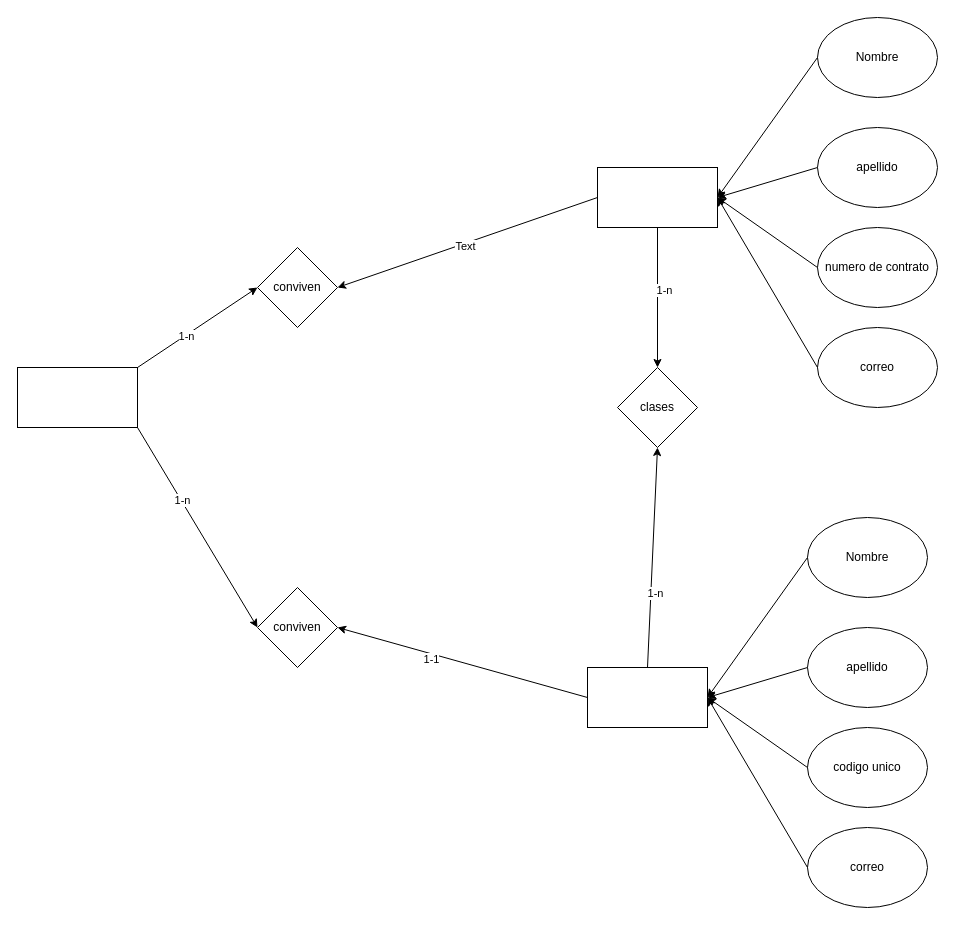
This 955x925 diagram has some shape labels left out. The box of each missing label's shape, as (x1, y1, x2, y2) in pixels:
Estudiante: (586, 666, 708, 728)
Institucion Educativa: (16, 366, 138, 428)
Profesor: (596, 166, 718, 228)
